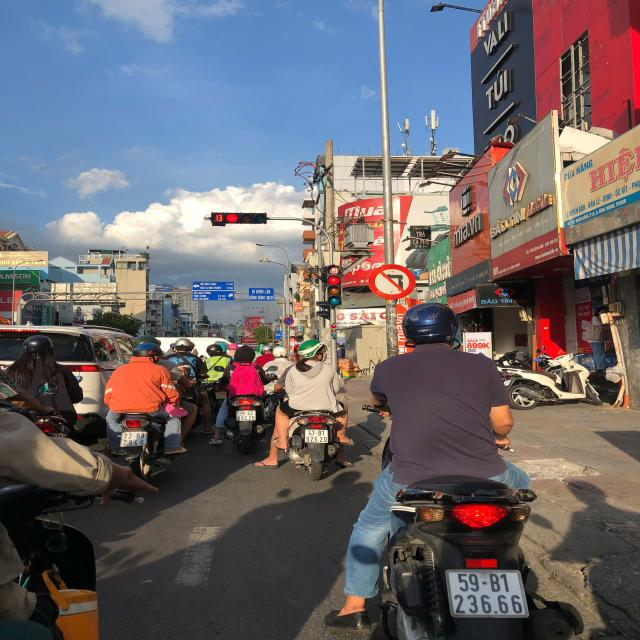Bien bao cam re trai: (363, 260, 419, 300)
